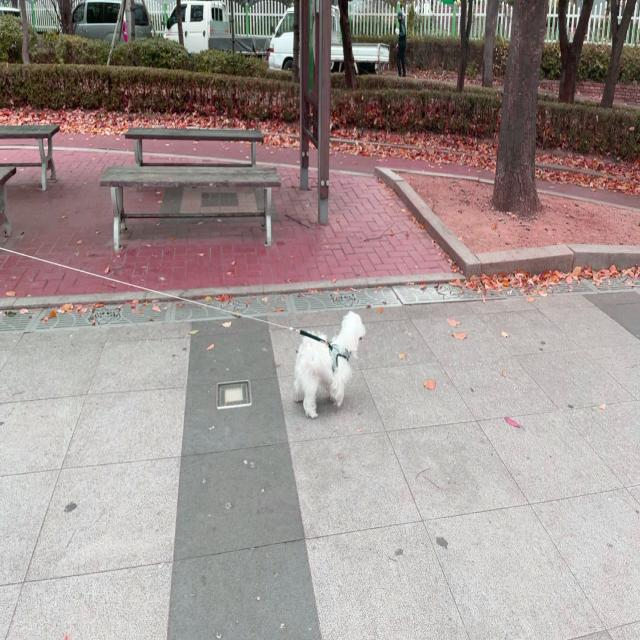Dog: (292, 309, 366, 422)
